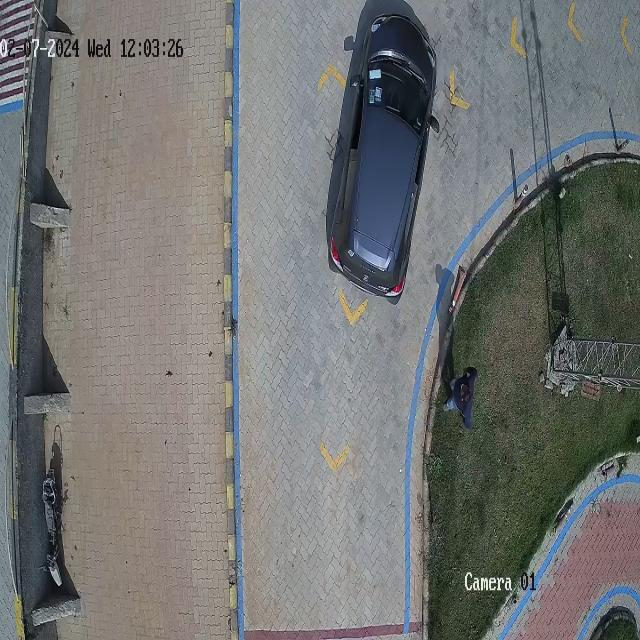car: (330, 16, 435, 302)
